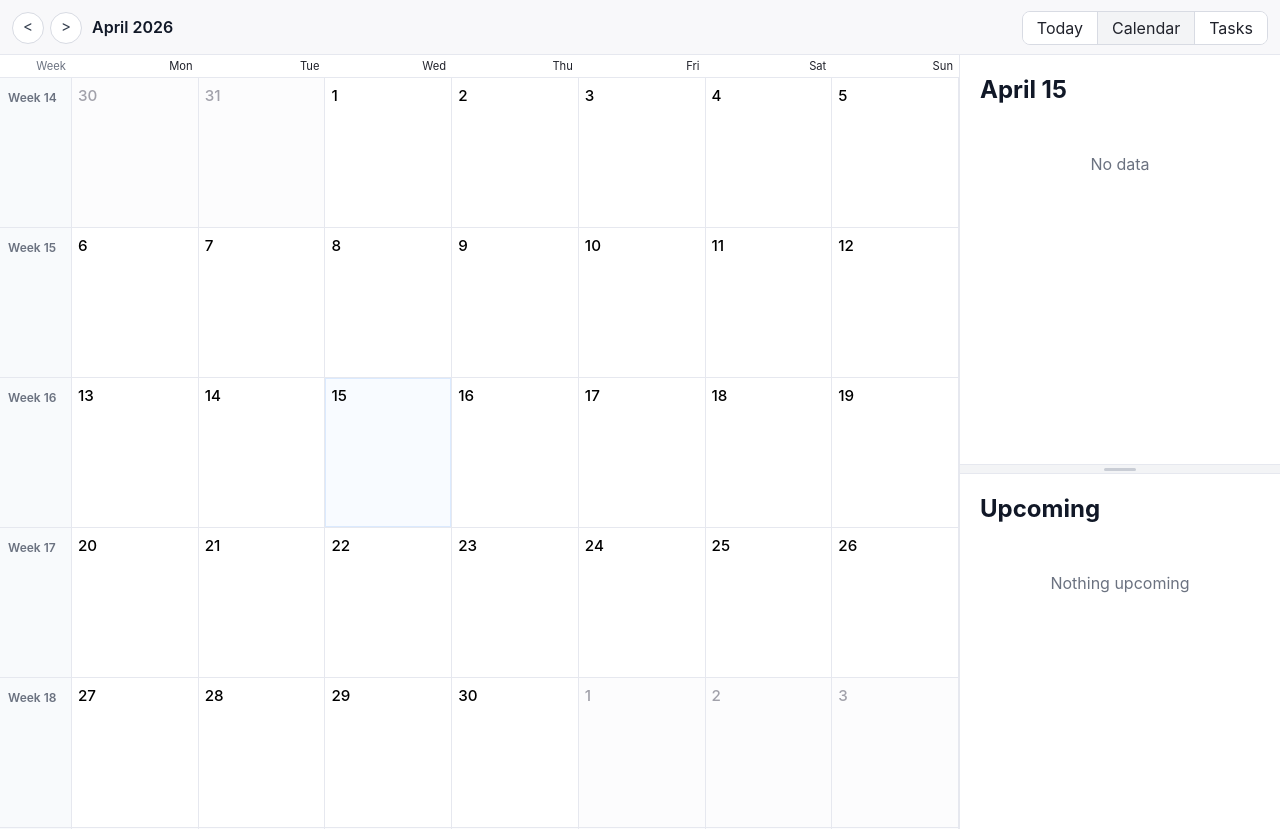
Scenario: AgendaApp › omits the priority row for tasks without a priority value
What coordinates should you click on to do the following:
click the button "Tasks"
I would click on:
 (1231, 28)
Its box is [1195, 12, 1267, 44].
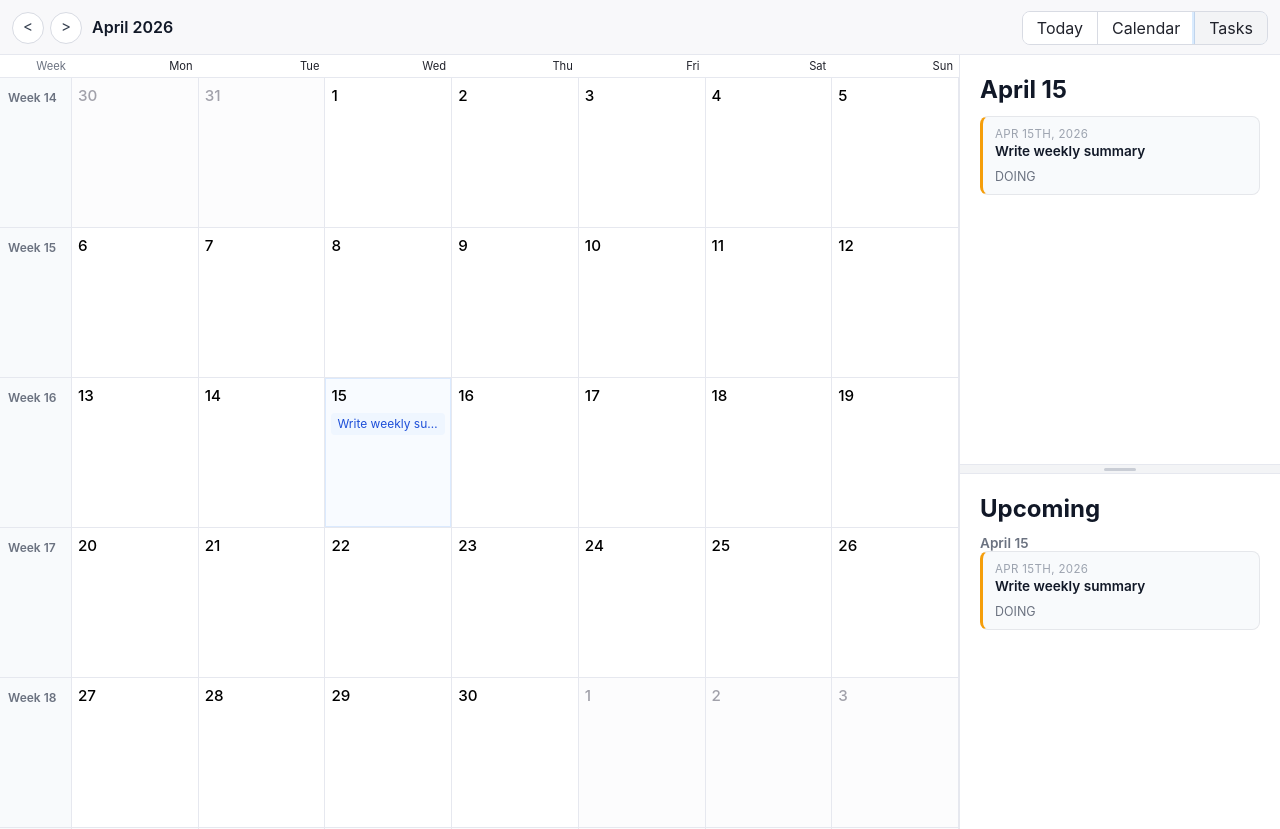
Expected: the 1st heading "Write weekly summary" is shown, [995, 143, 1145, 159]
Expected: the 1st text "DOING" is shown, [995, 169, 1036, 184]
